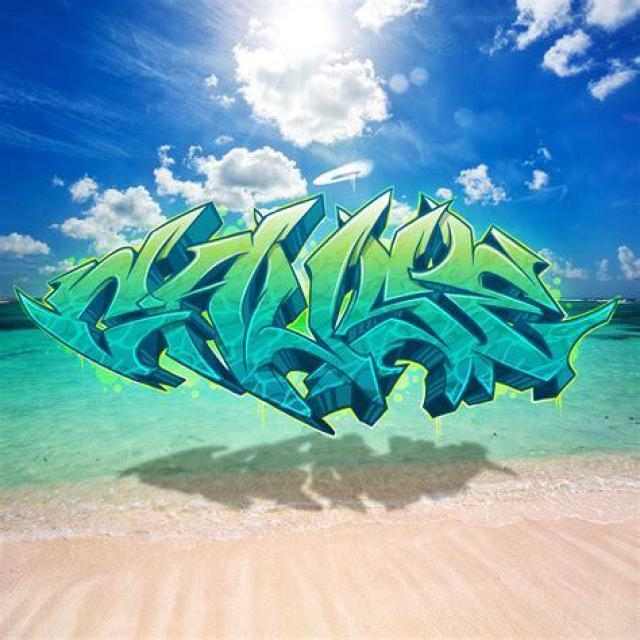nonspitting: (14, 186, 616, 439)
